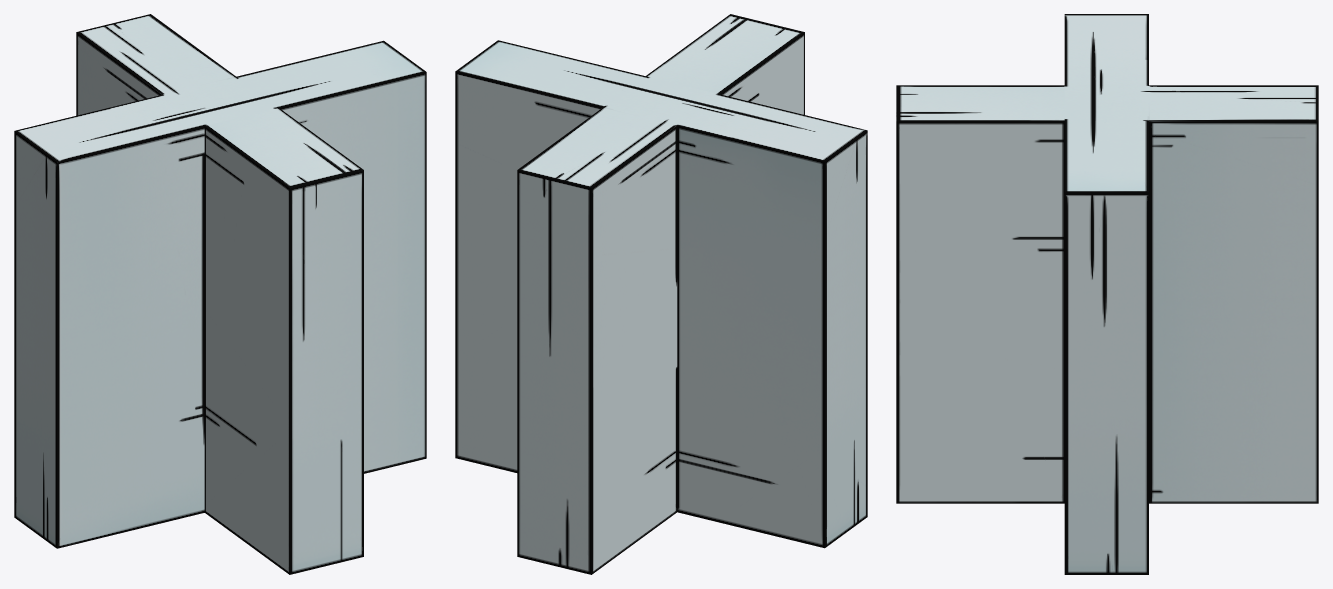
File: crosswall.fbx
3 renders of one model, left to right at view 1: azimuth 30°, elevation 25°; view 2: azimuth 150°, elevation 25°; view 3: azimuth 270°, elevation 25°, orthographic.
Parts seen in each view (by area): view 1: crosswall; view 2: crosswall; view 3: crosswall.
Part boxes in pixels (x1,y1,x2,y2): crosswall: [14, 14, 426, 574]; crosswall: [455, 14, 867, 574]; crosswall: [896, 14, 1318, 574].
Size of the model in its own units: 2 by 2 by 2.
Materials: 1 (1 with a texture image).
